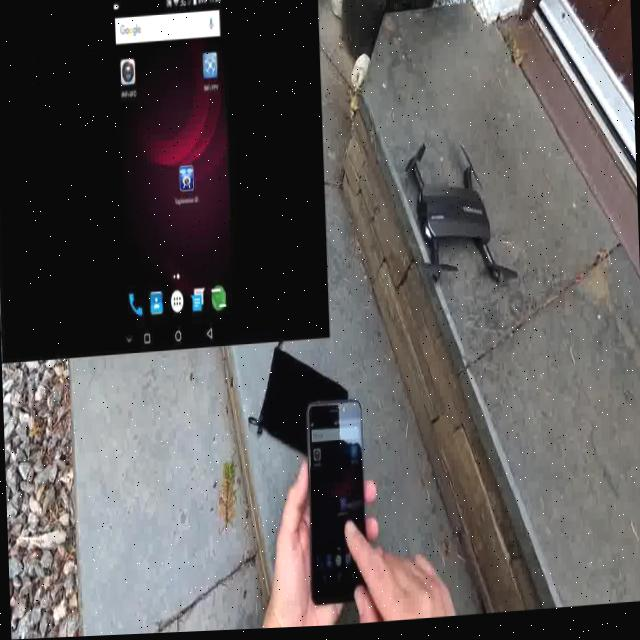drone: (378, 118, 529, 327)
